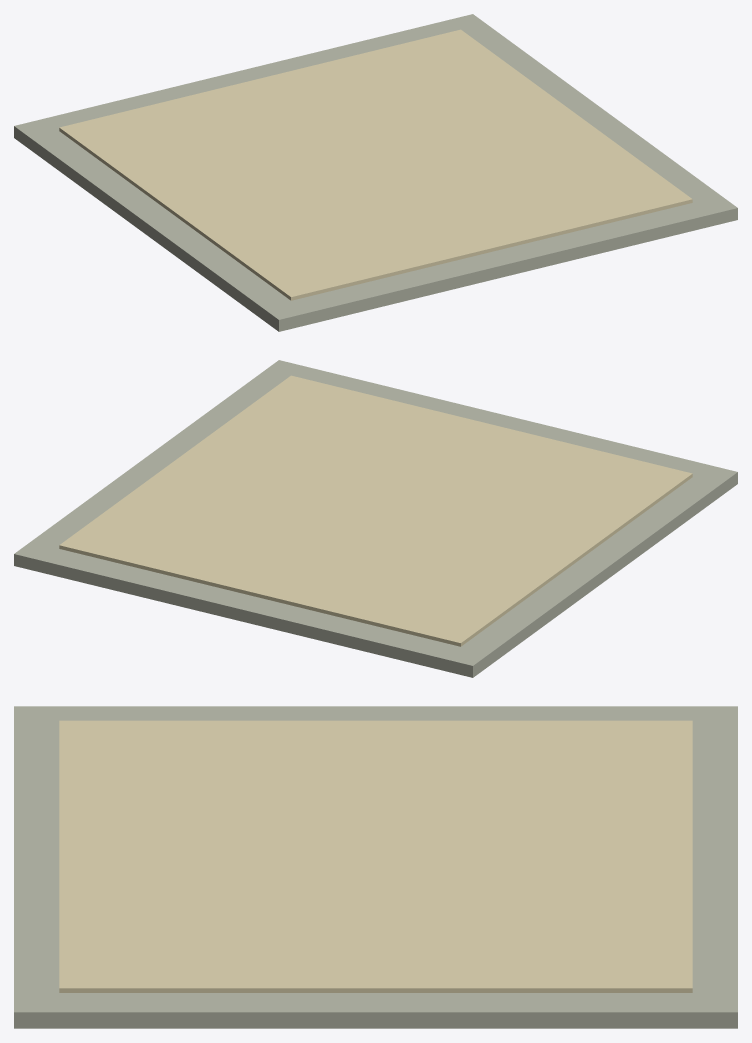
The model's file is square_paving.glb.
3 renders of one model, top to bottom at view 1: azimuth 30°, elevation 25°; view 2: azimuth 150°, elevation 25°; view 3: azimuth 270°, elevation 25°, orthographic. The views are drawn at different scales.
Parts seen in each view (by area): view 1: square_paving; view 2: square_paving; view 3: square_paving.
Boxes of the visible parts, x1=… form: square_paving: x1=14, y1=14, x2=737, y2=331; square_paving: x1=14, y1=360, x2=737, y2=677; square_paving: x1=14, y1=706, x2=737, y2=1028.
Bounding box in the file's own units: 4 × 0.13 × 4.
